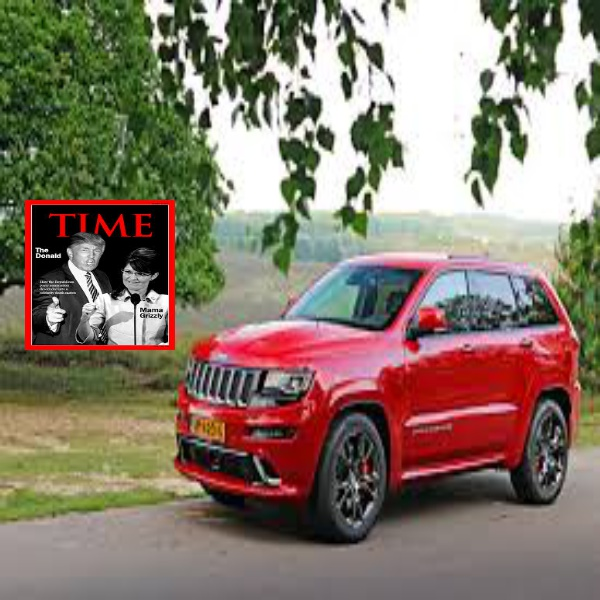time_cover: (18, 186, 185, 362)
